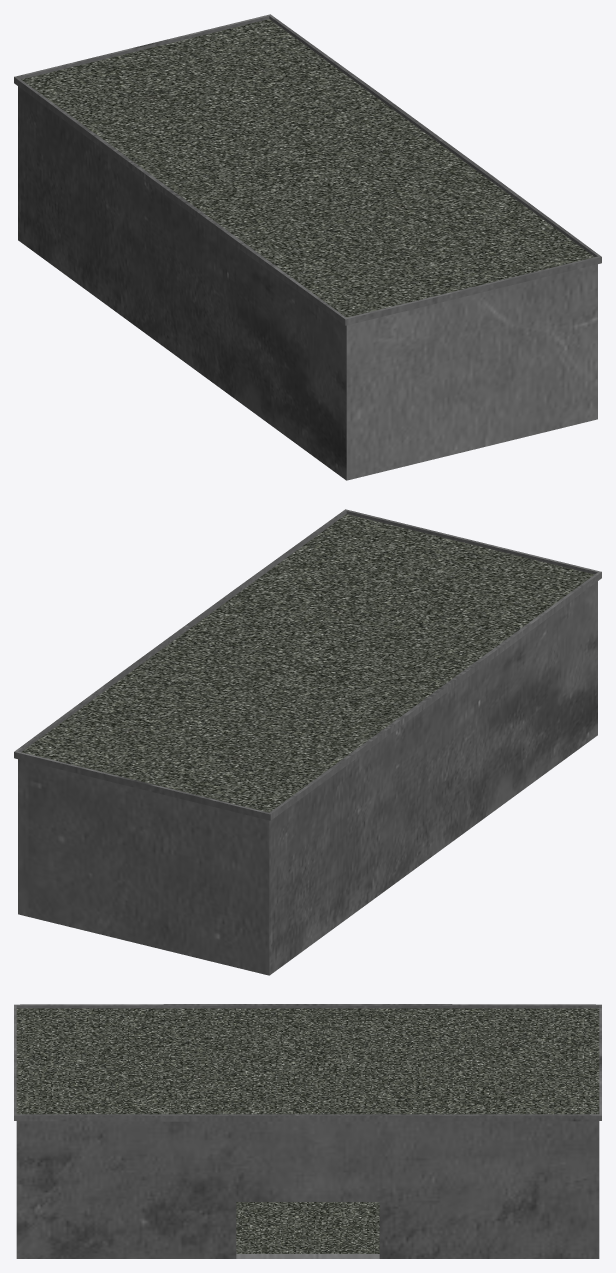
Rendered from WAREHOUSE_02.fbx.
The picture shows the model from 3 angles, top to bottom: view 1: azimuth 30°, elevation 25°; view 2: azimuth 150°, elevation 25°; view 3: azimuth 270°, elevation 25°; orthographic projection. The views are drawn at different scales.
Visible parts, largest first — view 1: WAREHOUSE_02; view 2: WAREHOUSE_02; view 3: WAREHOUSE_02.
Part boxes in pixels (bbox=[...]): WAREHOUSE_02: bbox=[14, 14, 601, 480]; WAREHOUSE_02: bbox=[14, 509, 601, 975]; WAREHOUSE_02: bbox=[14, 1004, 601, 1258].
Bounding box in the file's own units: 2169 × 1305 × 4815.
